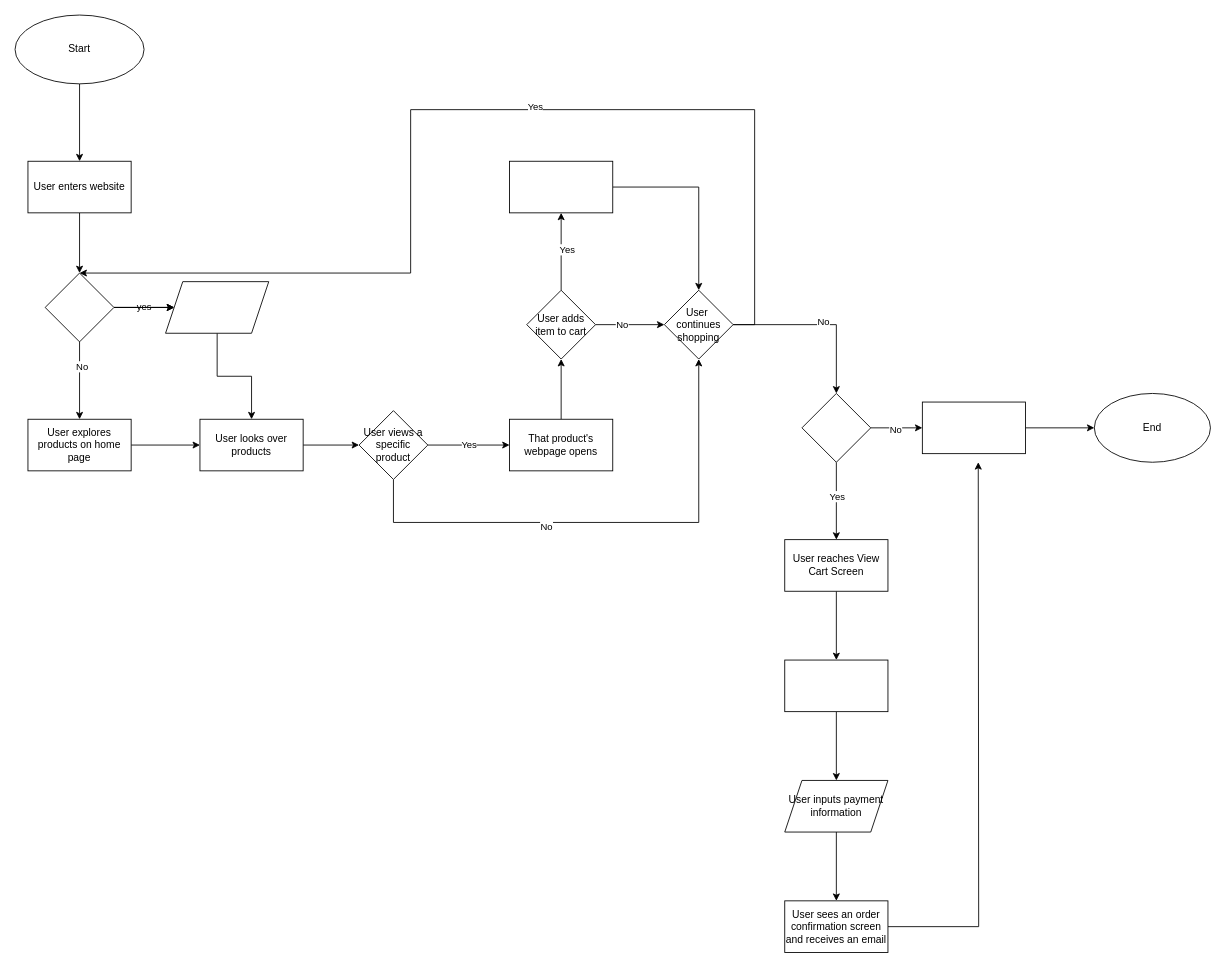
This 1226x968 diagram has some shape labels left out. Here are the shapes that lost their labels. From the top down, the box of each, then its label:
(509, 160, 613, 213): User receives added to cart confirmation
(44, 272, 114, 342): User searches for product
(165, 281, 269, 333): User provides input of their search
(801, 393, 871, 462): User decides to checkout
(921, 401, 1026, 454): User leaves the website
(784, 659, 888, 712): User goes to View Payment Screen
